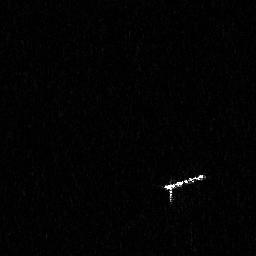ship: (160, 170, 206, 206)
